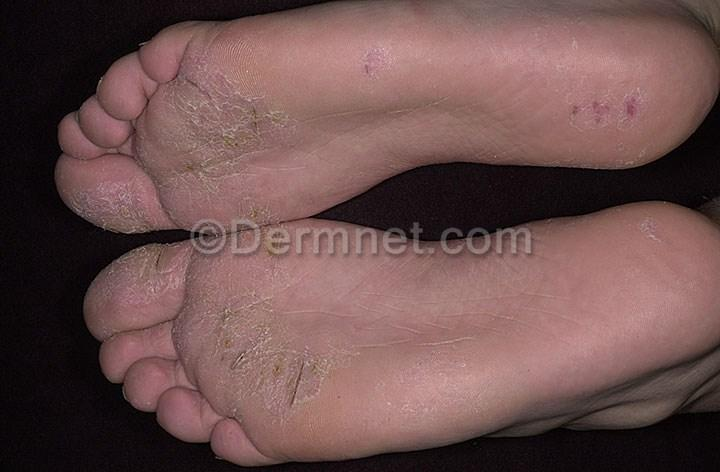Eczema: (226, 280, 328, 413), (182, 61, 281, 172), (116, 250, 201, 304), (61, 190, 161, 225), (564, 97, 648, 125), (359, 43, 395, 82)
